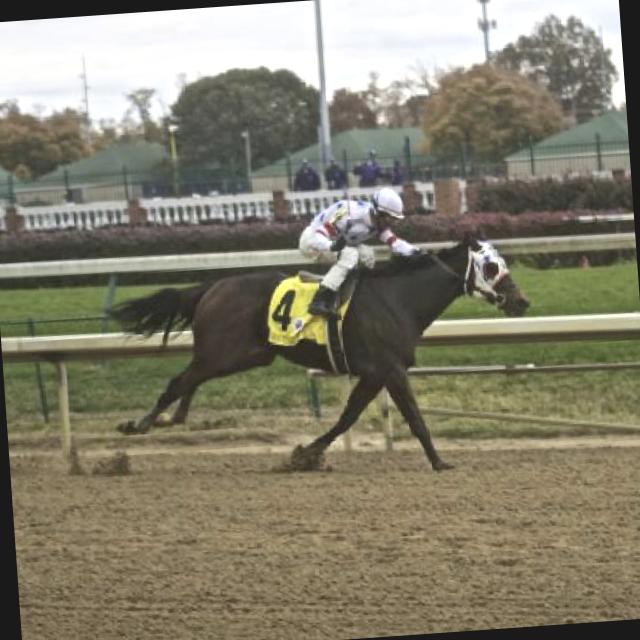Person: (293, 186, 424, 316), (351, 152, 392, 192), (290, 156, 322, 200), (366, 156, 406, 190), (321, 154, 351, 190)
